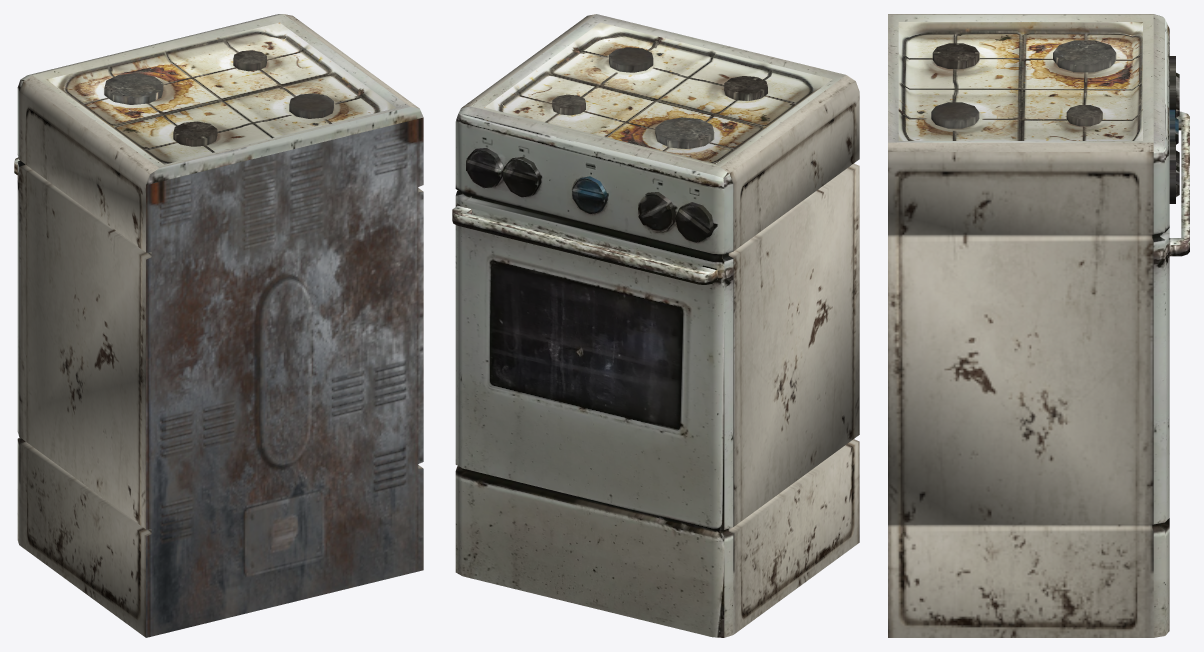
Rendered from SM_GasStove.fbx.
3 views of the same model, side by side, from view 1: azimuth 30°, elevation 25°; view 2: azimuth 150°, elevation 25°; view 3: azimuth 270°, elevation 25° (orthographic). The views are drawn at different scales.
Parts seen in each view (by area): view 1: Cube.292; view 2: Cube.292, Cylinder.036, Cylinder.034, Cylinder.037, Cylinder.033, Cylinder.035; view 3: Cube.292.
Part boxes in pixels (bbox=[...]): Cube.292: bbox=[14, 14, 423, 637]; Cube.292: bbox=[452, 14, 859, 637]; Cylinder.036: bbox=[638, 192, 675, 232]; Cylinder.034: bbox=[503, 156, 541, 197]; Cylinder.037: bbox=[675, 202, 713, 243]; Cylinder.033: bbox=[466, 148, 503, 188]; Cylinder.035: bbox=[572, 176, 607, 213]; Cube.292: bbox=[888, 14, 1189, 637].
Bounding box in the file's own units: 80.95 × 130 × 72.83.
